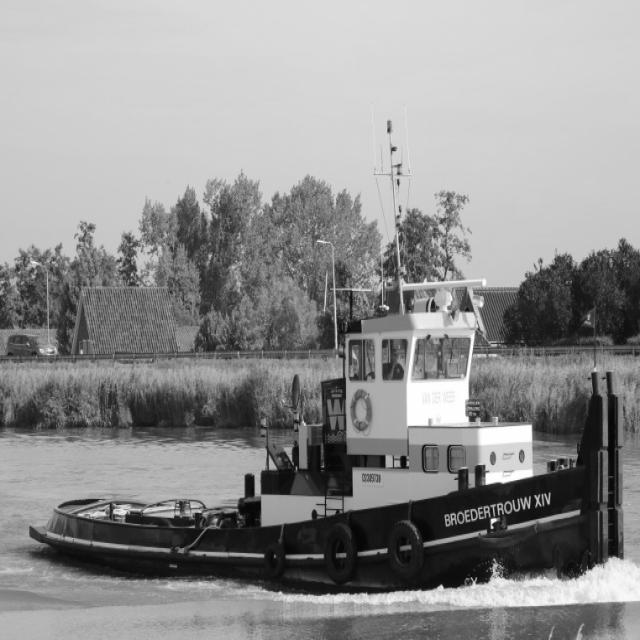tugboat: (23, 268, 631, 615)
